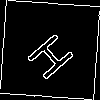H: (25, 25, 84, 83)
